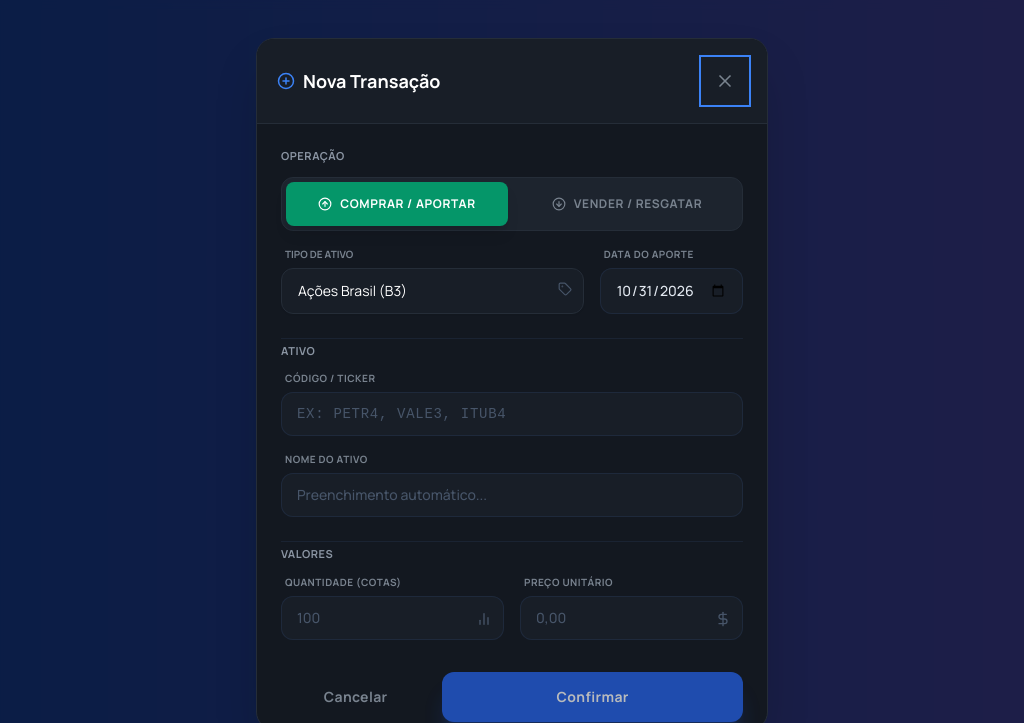
validações de erro › exibe alerta de erro quando addAsset rejeita
Type "PETR4" into the dropdown labelled "Código / Ticker".
click(512, 414); type("PETR4")  # box [281,392,743,436]
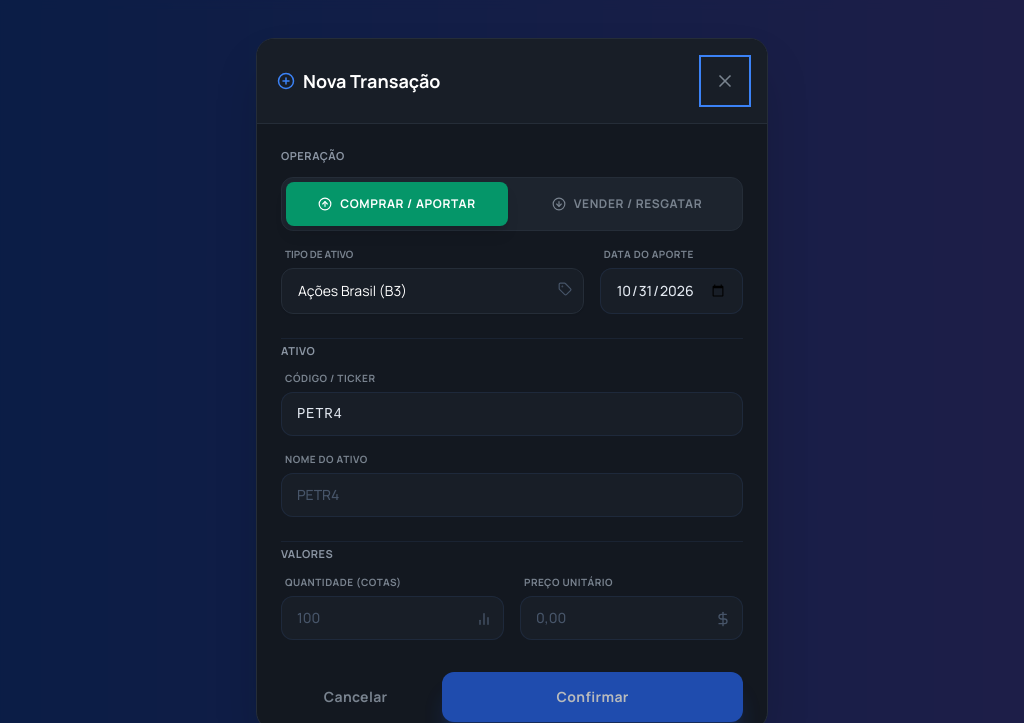
Type "10" into the number field labelled "Quantidade (Cotas)".
click(392, 618); type("10")  # box [281,596,504,640]
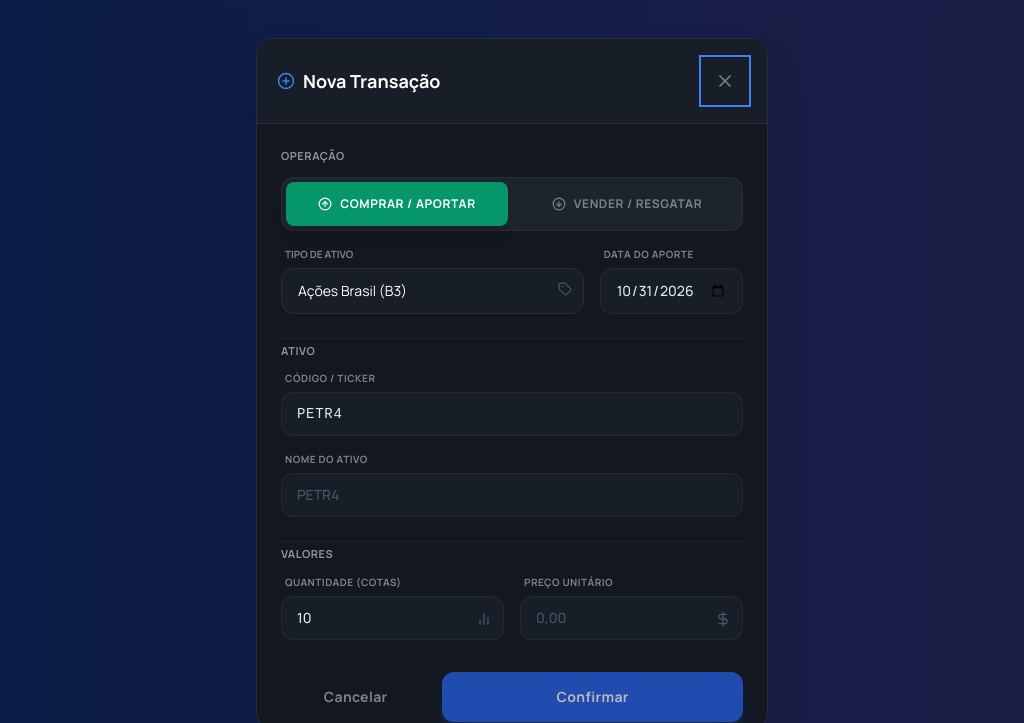
Type "3500" into the field labelled "Preço Unitário".
click(632, 618); type("3500")  # box [520,596,743,640]
(page scrolled)
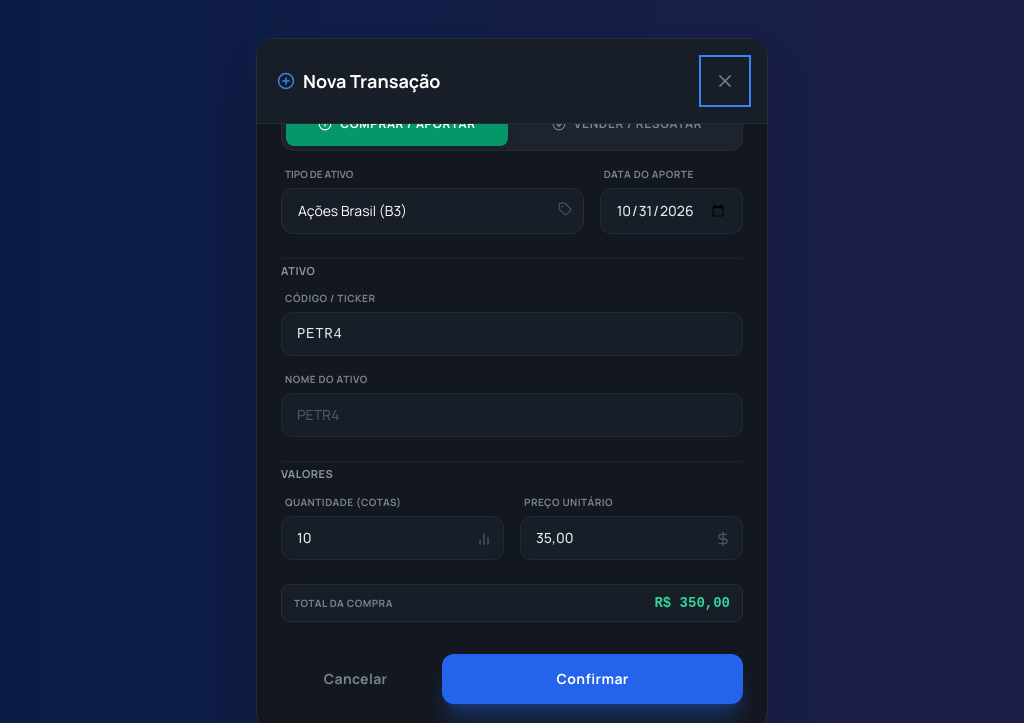
Click the button "Confirmar".
click(593, 679)  # box [442,654,743,704]
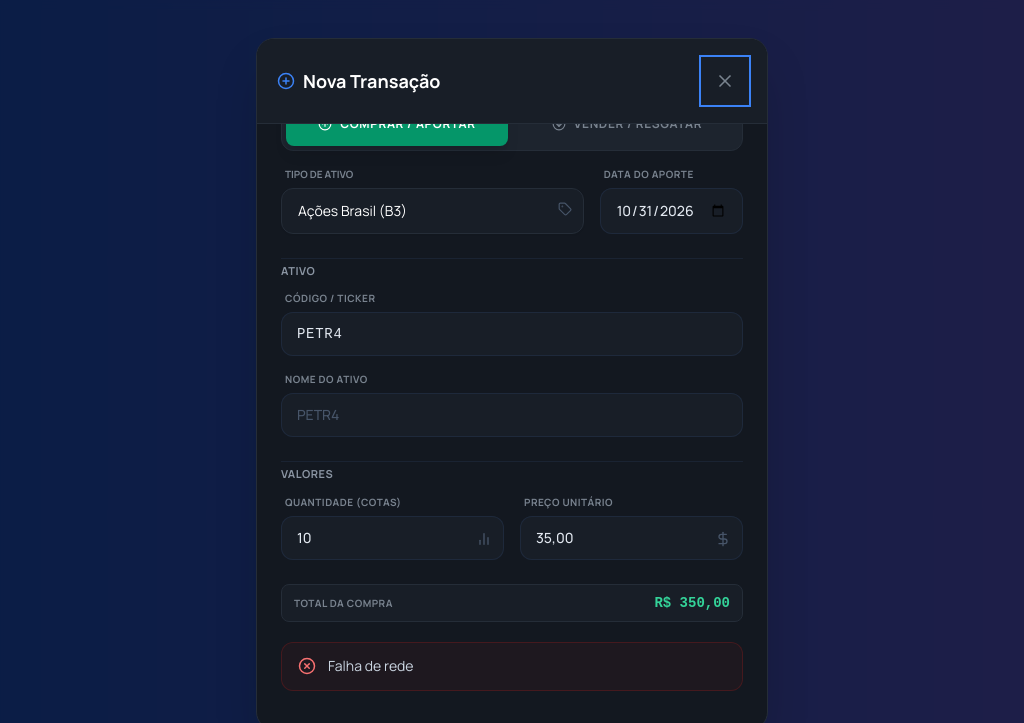
Check: the message reads "Falha de rede", box [328,656,414,675]
